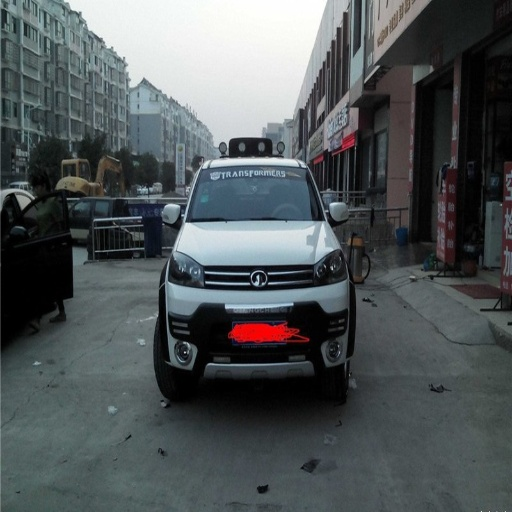front_bumper: (167, 264, 355, 369)
hood: (179, 221, 337, 267)
